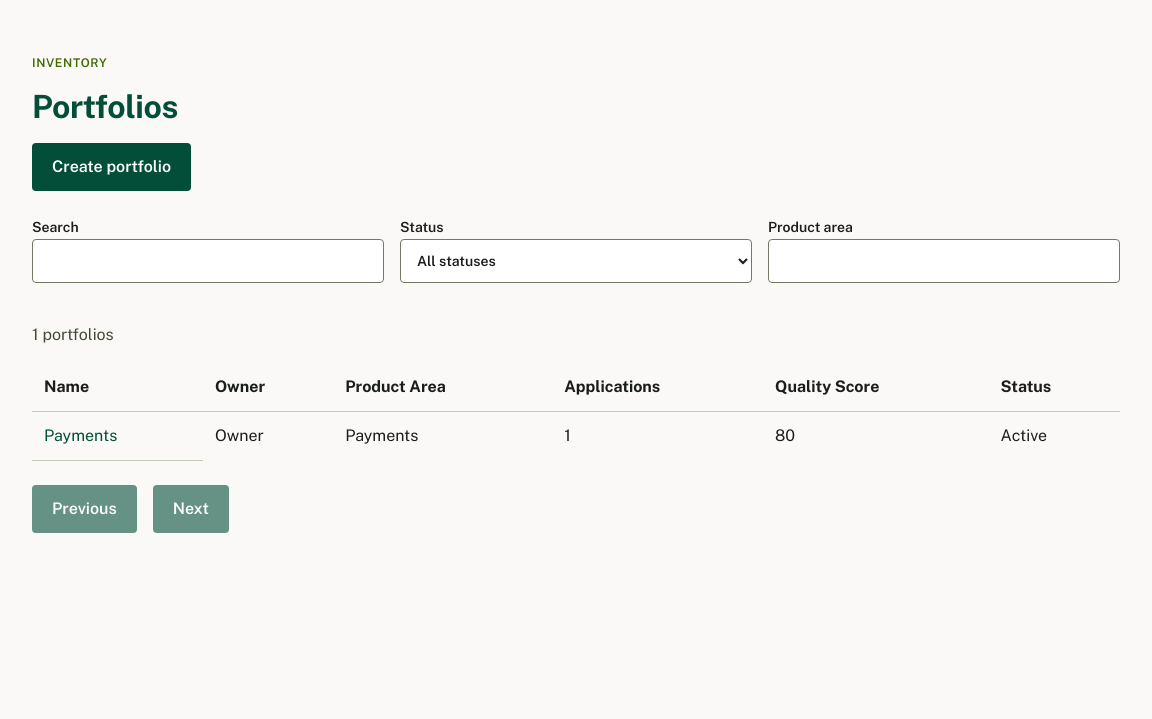
Test case: renders inventory and opens a detail with linked applications
Click the link "Payments": (81, 436) x1=44 y1=426 x2=117 y2=445
(page scrolled)
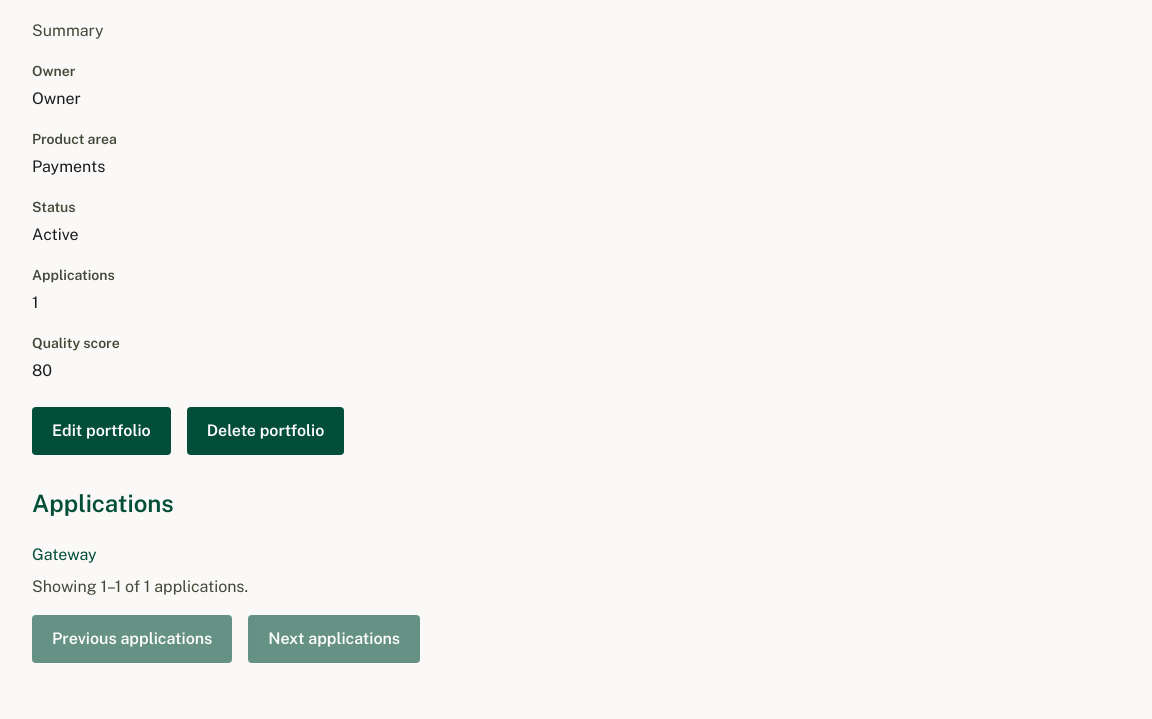
Check: the link "Gateway" is shown, box x1=32 y1=545 x2=97 y2=564
